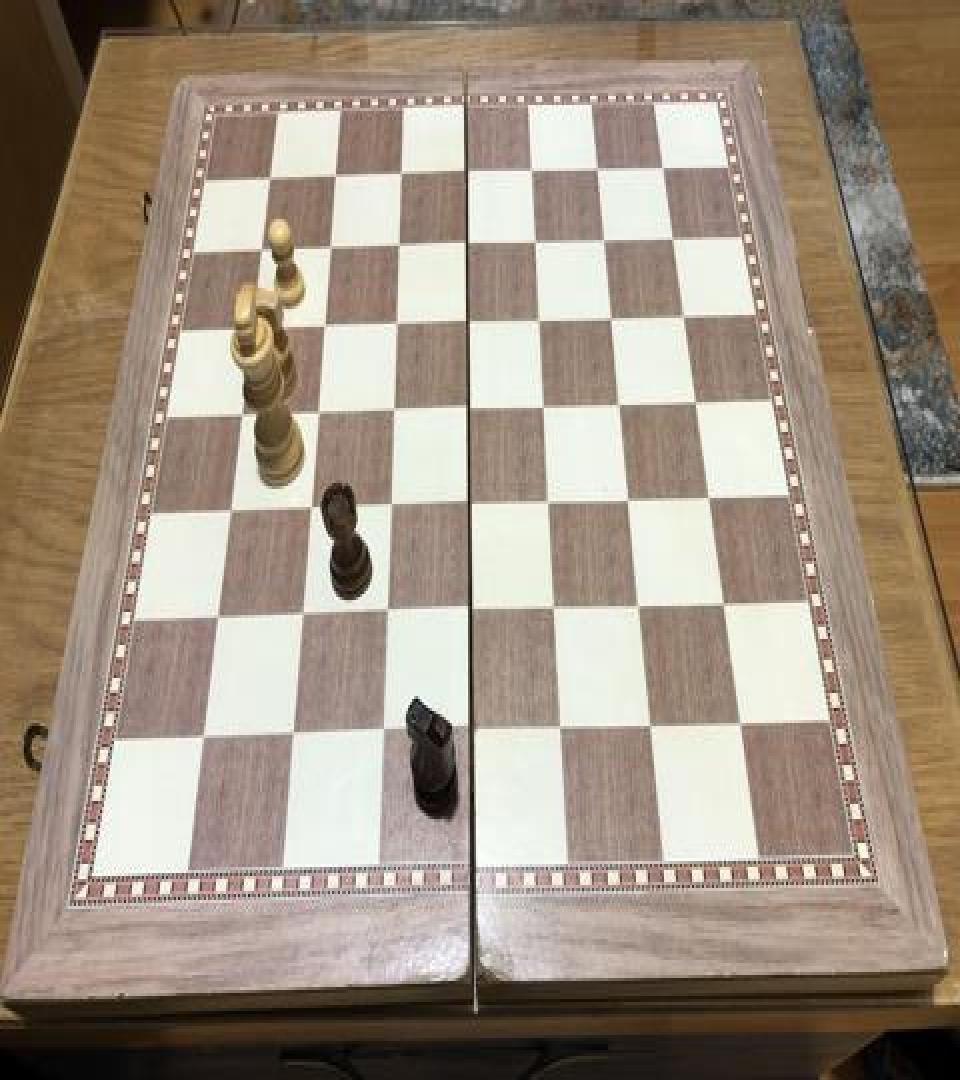xcorner: (629, 586, 653, 623), (731, 703, 755, 740), (461, 712, 485, 749), (652, 150, 676, 186), (587, 152, 611, 188), (522, 153, 546, 189), (457, 154, 481, 190), (392, 158, 416, 194), (327, 159, 351, 195), (262, 160, 286, 196), (662, 219, 686, 255), (594, 222, 618, 258), (526, 224, 550, 260), (457, 225, 481, 261), (389, 228, 413, 264), (321, 230, 345, 266), (253, 232, 277, 268), (673, 297, 697, 333), (601, 298, 625, 334), (530, 302, 554, 338), (458, 303, 482, 339), (387, 306, 411, 342), (315, 308, 339, 344), (243, 309, 267, 345), (685, 382, 709, 418), (610, 384, 634, 420), (534, 387, 558, 423), (459, 388, 483, 424), (383, 392, 407, 428), (308, 393, 332, 429), (233, 396, 257, 432), (699, 477, 723, 513), (619, 480, 643, 516), (539, 483, 563, 519), (460, 484, 484, 520), (380, 488, 404, 524), (300, 489, 324, 525), (221, 492, 245, 528), (714, 584, 738, 620), (545, 590, 569, 626), (460, 591, 484, 627), (376, 594, 400, 630), (292, 597, 316, 633), (208, 598, 232, 634), (641, 706, 665, 742), (551, 710, 575, 746), (372, 714, 396, 750), (282, 717, 306, 753), (193, 720, 217, 756)
